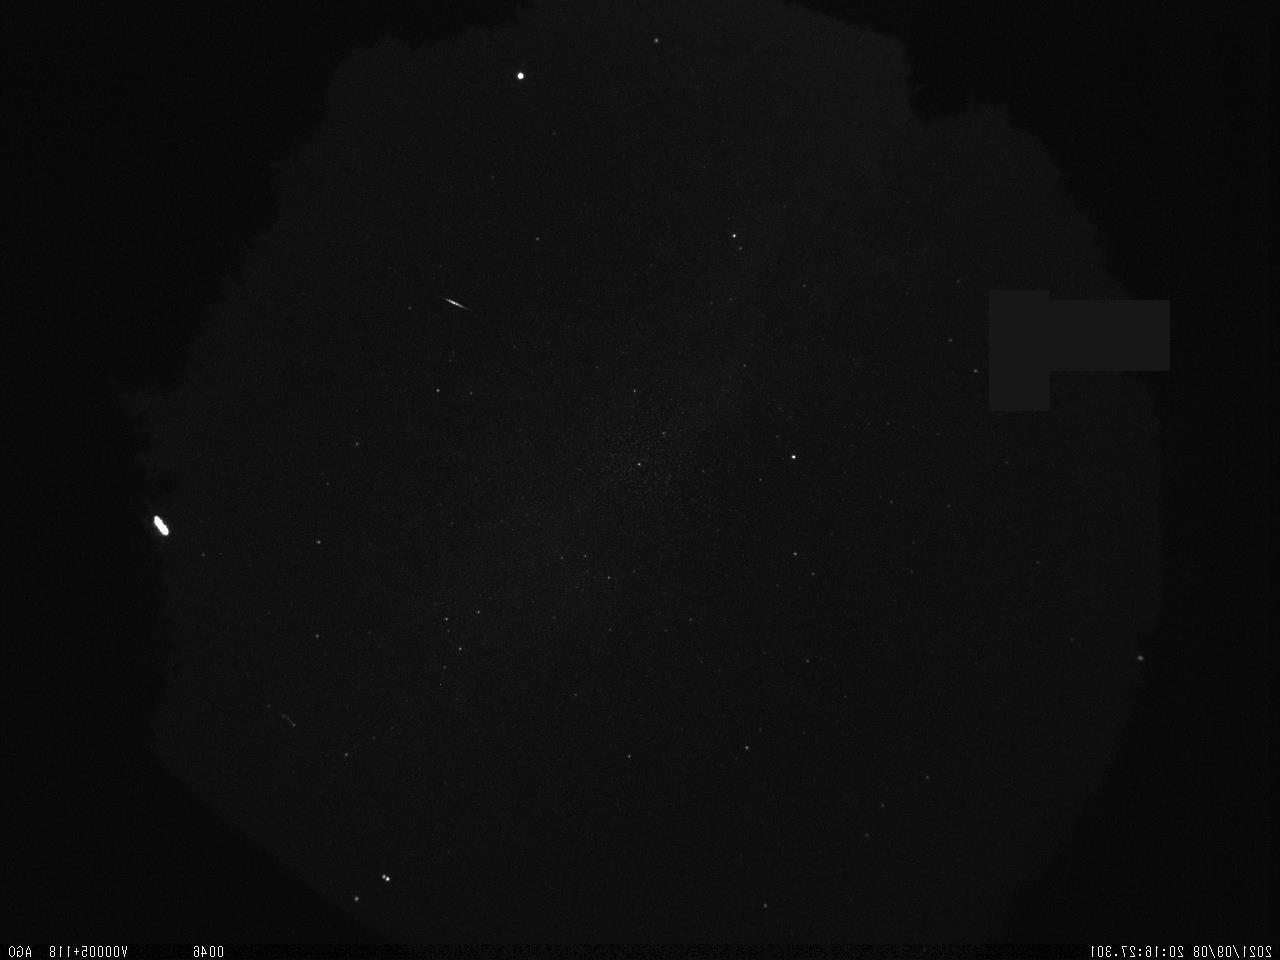meteor: (424, 283, 486, 324)
